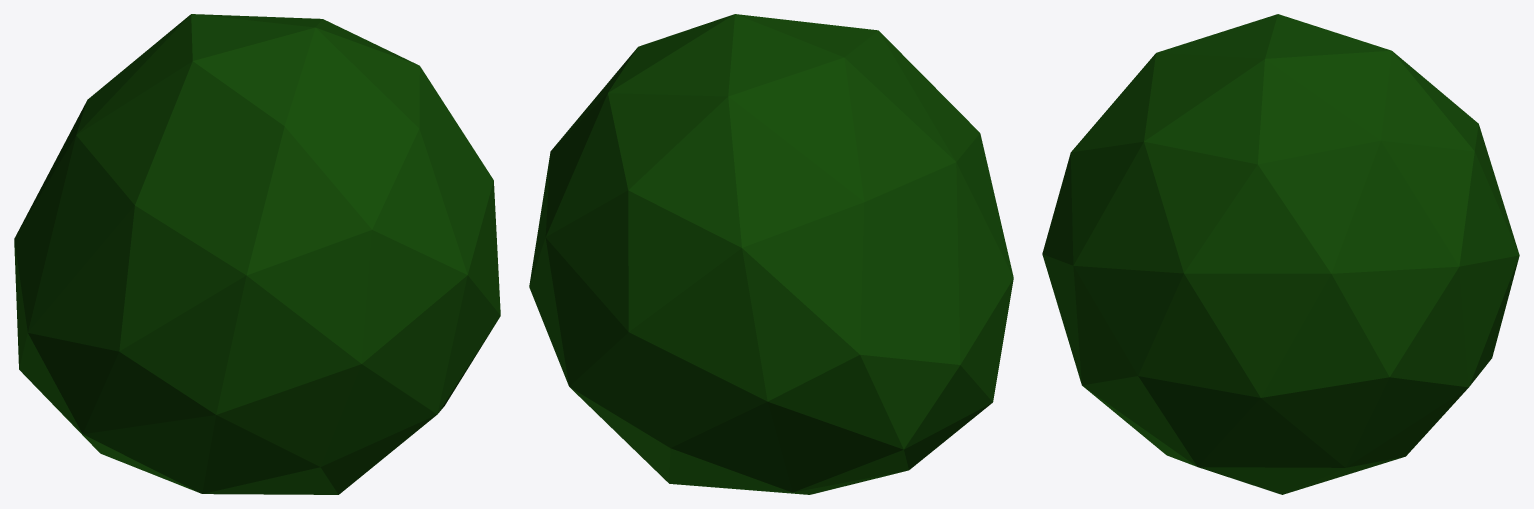
The picture shows the model from 3 angles, left to right: view 1: azimuth 30°, elevation 25°; view 2: azimuth 150°, elevation 25°; view 3: azimuth 270°, elevation 25°; orthographic projection. The views are drawn at different scales.
Visible parts, largest first — view 1: Icosphere.014; view 2: Icosphere.014; view 3: Icosphere.014.
Part boxes in pixels (bbox=[...]): Icosphere.014: bbox=[14, 14, 500, 494]; Icosphere.014: bbox=[529, 14, 1013, 494]; Icosphere.014: bbox=[1042, 14, 1519, 494].
Bounding box in the file's own units: 1.11 × 1.14 × 1.14.
